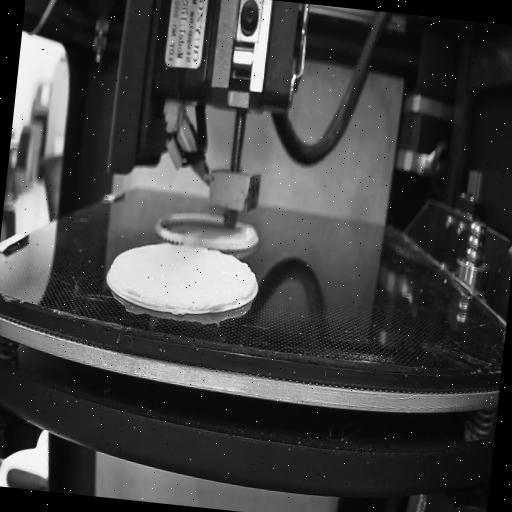over_extrusion: (232, 257, 260, 304)
